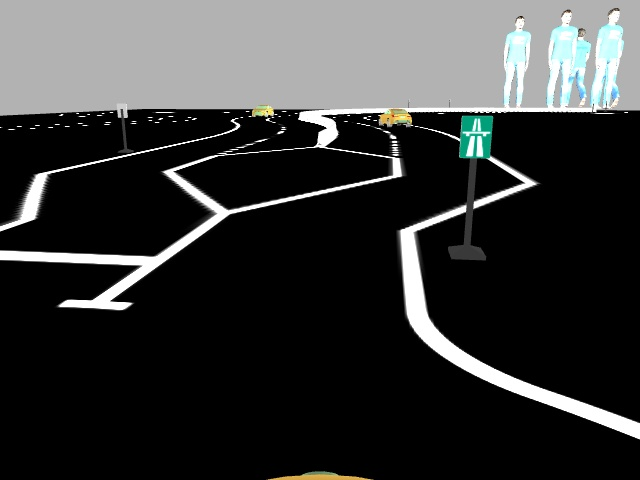HighwayEntrance: (457, 114, 494, 160)
